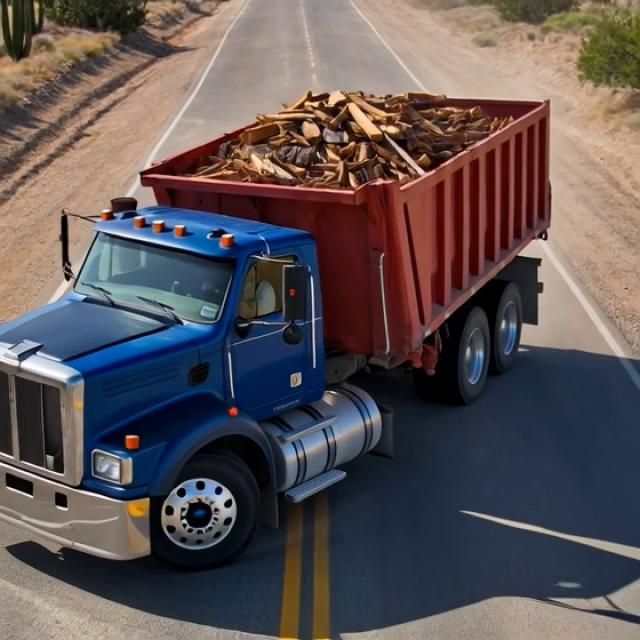Box: (129, 86, 571, 191)
Truck: (0, 71, 592, 562)
